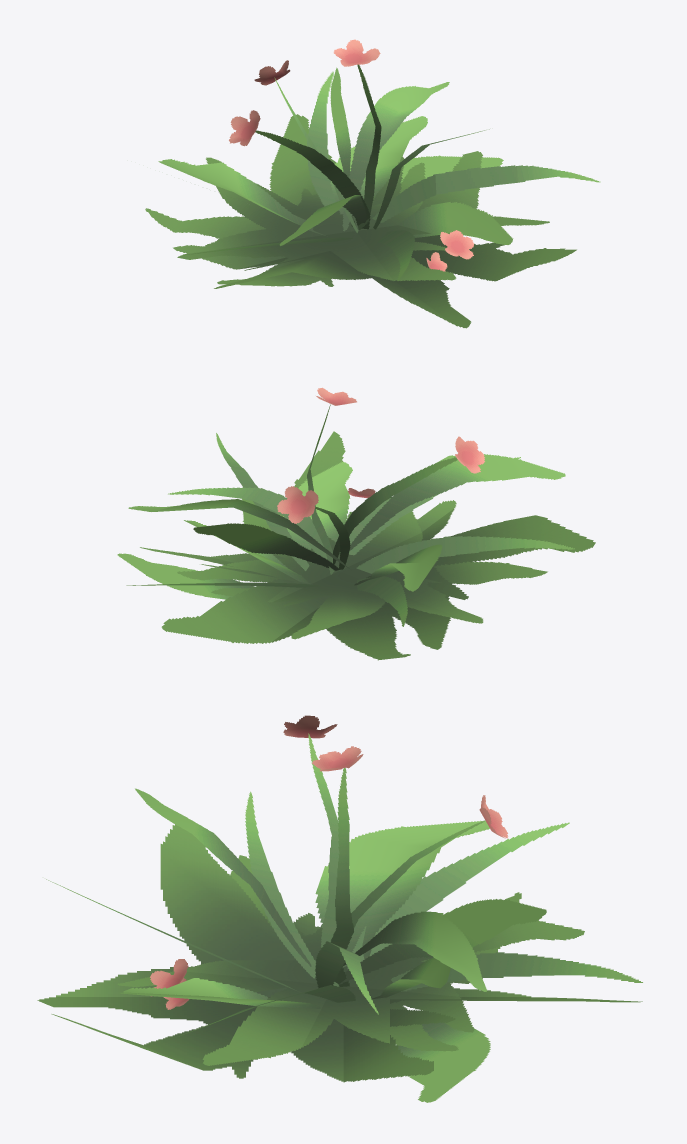
Rendered from plant_04.glb.
3 renders of one model, top to bottom at view 1: azimuth 30°, elevation 25°; view 2: azimuth 150°, elevation 25°; view 3: azimuth 270°, elevation 25°, orthographic. The views are drawn at different scales.
Parts seen in each view (by area): view 1: plant_04; view 2: plant_04; view 3: plant_04.
Part boxes in pixels (x1,y1,x2,y2): plant_04: [145, 39, 600, 328]; plant_04: [117, 387, 595, 660]; plant_04: [37, 715, 642, 1102].
Size of the model in its own units: 1.02 by 0.4802 by 1.02.
Materials: 1 (1 with a texture image).
